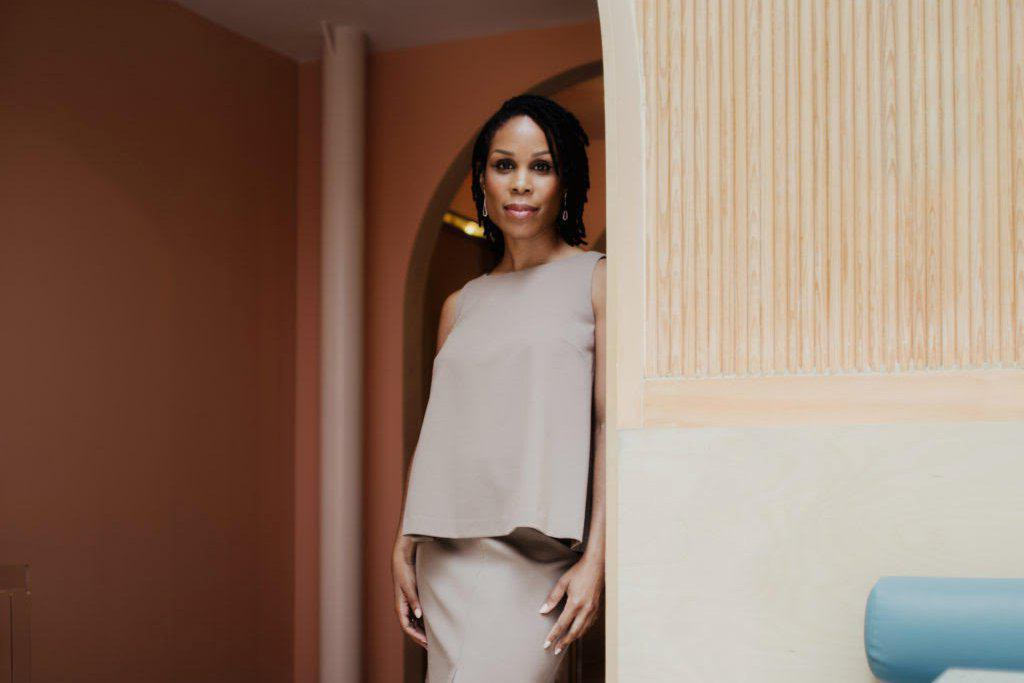Sober: (483, 125, 565, 234)
